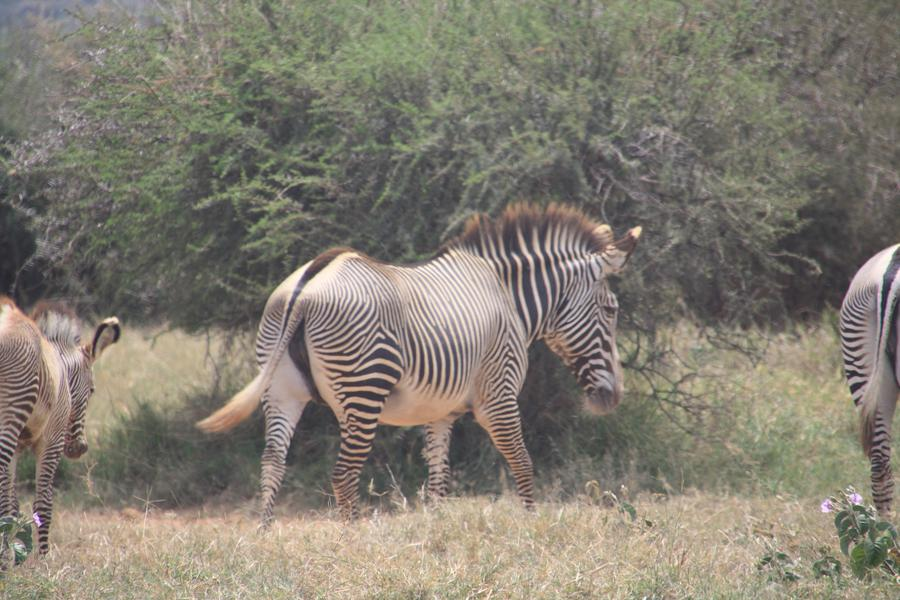zebra_grevys: (279, 241, 526, 398)
